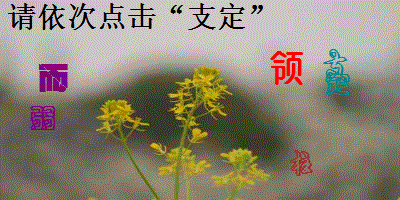result: (187, 1, 247, 32)
text: (269, 49, 304, 87), (36, 61, 71, 95), (322, 48, 354, 82), (28, 104, 59, 133), (322, 69, 352, 97), (289, 149, 315, 178)
